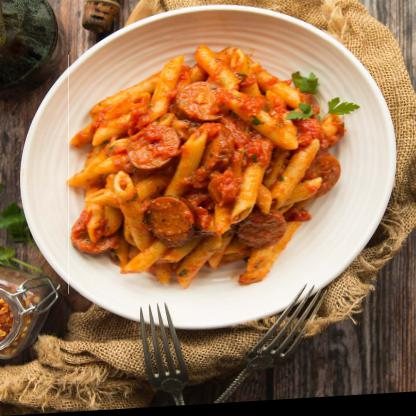pasta: (68, 43, 345, 296)
